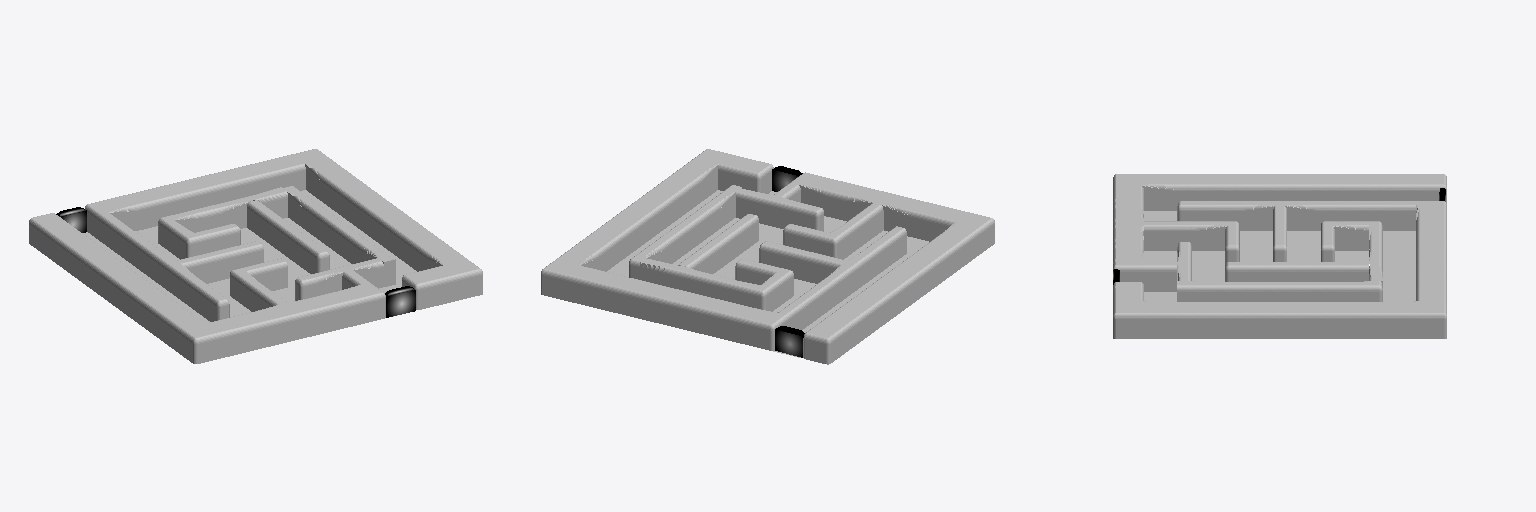
3 views of the same model, side by side, from view 1: azimuth 30°, elevation 25°; view 2: azimuth 150°, elevation 25°; view 3: azimuth 270°, elevation 25° (orthographic).
Visible parts, largest first — view 1: Plane.005_Plane.006, Plane.001_Plane.002, Plane.002_Plane.003, Plane.006_Plane.007, Plane.003_Plane.004, Plane_Plane.001, Plane.017_Plane.019, Plane.013_Plane.014, Plane.014_Plane.015, Plane.004_Plane.005, Plane.009_Plane.010, Plane.007_Plane.008 (+5 smaller); view 2: Plane.005_Plane.006, Plane.002_Plane.003, Plane.001_Plane.002, Plane.006_Plane.007, Plane.003_Plane.004, Plane_Plane.001, Plane.017_Plane.019, Plane.014_Plane.015, Plane.009_Plane.010, Plane.013_Plane.014, Plane.004_Plane.005, Plane.011_Plane.012 (+5 smaller); view 3: Plane.001_Plane.002, Plane.005_Plane.006, Plane_Plane.001, Plane.003_Plane.004, Plane.017_Plane.019, Plane.002_Plane.003, Plane.006_Plane.007, Plane.013_Plane.014, Plane.011_Plane.012, Plane.015_Plane.016, Plane.010_Plane.011, Plane.014_Plane.015 (+4 smaller).
Boxes of the visible parts, x1,y1,x2,y2 form: Plane.005_Plane.006: [29, 213, 221, 363]; Plane.001_Plane.002: [291, 149, 482, 300]; Plane.002_Plane.003: [85, 155, 305, 239]; Plane.006_Plane.007: [208, 282, 385, 357]; Plane.003_Plane.004: [99, 213, 229, 321]; Plane_Plane.001: [82, 190, 416, 322]; Plane.017_Plane.019: [283, 186, 395, 286]; Plane.013_Plane.014: [247, 200, 329, 273]; Plane.014_Plane.015: [158, 187, 287, 246]; Plane.004_Plane.005: [177, 241, 263, 283]; Plane.009_Plane.010: [295, 258, 383, 300]; Plane.007_Plane.008: [402, 266, 456, 309]; Plane.005_Plane.006: [803, 212, 994, 364]; Plane.002_Plane.003: [566, 266, 788, 350]; Plane.001_Plane.002: [541, 149, 731, 300]; Plane.006_Plane.007: [791, 172, 966, 241]; Plane.003_Plane.004: [778, 226, 906, 329]; Plane_Plane.001: [607, 190, 928, 357]; Plane.017_Plane.019: [629, 184, 742, 279]; Plane.014_Plane.015: [640, 258, 770, 310]; Plane.009_Plane.010: [736, 188, 823, 231]; Plane.013_Plane.014: [678, 214, 758, 273]; Plane.004_Plane.005: [759, 241, 845, 283]; Plane.011_Plane.012: [823, 203, 883, 259]; Plane.001_Plane.002: [1113, 301, 1446, 338]; Plane.005_Plane.006: [1113, 174, 1446, 210]; Plane_Plane.001: [1144, 211, 1415, 301]; Plane.003_Plane.004: [1177, 201, 1415, 230]; Plane.017_Plane.019: [1177, 281, 1382, 301]; Plane.002_Plane.003: [1416, 201, 1446, 302]; Plane.006_Plane.007: [1113, 186, 1143, 283]; Plane.013_Plane.014: [1225, 262, 1368, 281]; Plane.011_Plane.012: [1144, 221, 1239, 250]; Plane.015_Plane.016: [1321, 221, 1368, 250]; Plane.010_Plane.011: [1144, 262, 1176, 291]; Plane.014_Plane.015: [1369, 221, 1382, 280].
Bounding box in the file's own units: 43.71 × 3.63 × 43.75.
Materials: 3 (1 with a texture image).